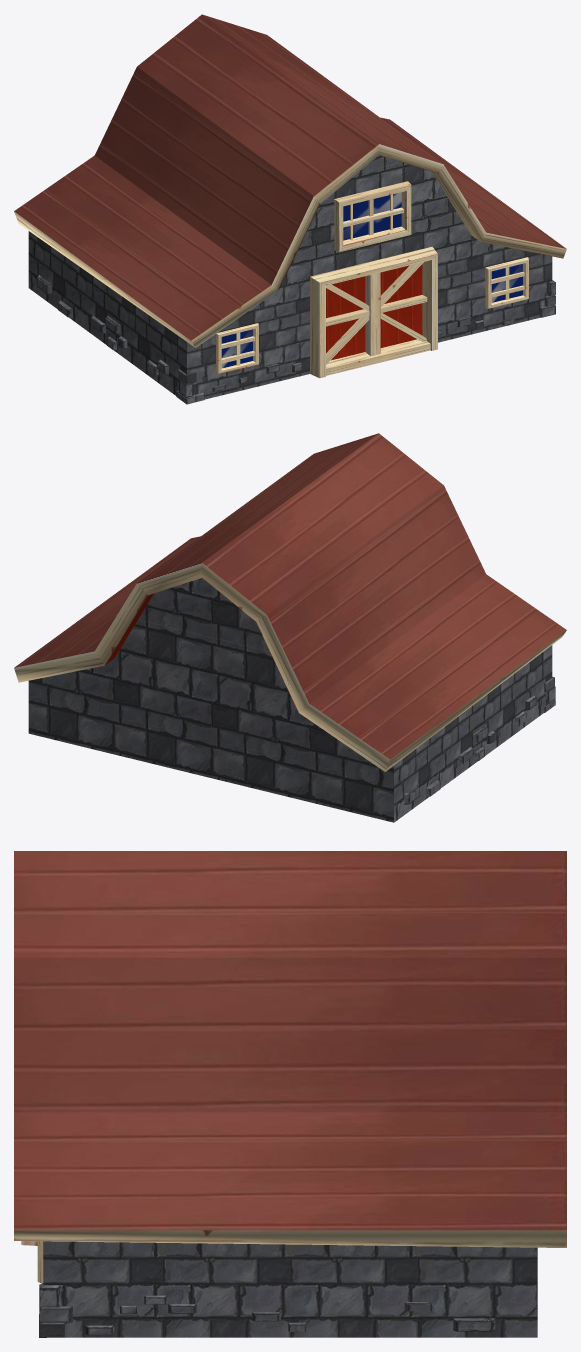
File: ambar3.fbx
3 views of the same model, one above another, from view 1: azimuth 30°, elevation 25°; view 2: azimuth 150°, elevation 25°; view 3: azimuth 270°, elevation 25° (orthographic). The views are drawn at different scales.
Visible parts, largest first — view 1: Ambar_03; view 2: Ambar_03; view 3: Ambar_03.
Boxes of the visible parts, x1,y1,x2,y2 form: Ambar_03: (14, 14, 566, 404); Ambar_03: (14, 433, 566, 822); Ambar_03: (14, 851, 566, 1337).
Bounding box in the file's own units: 5703 × 3222 × 4650.
1 material, 1 textured.
